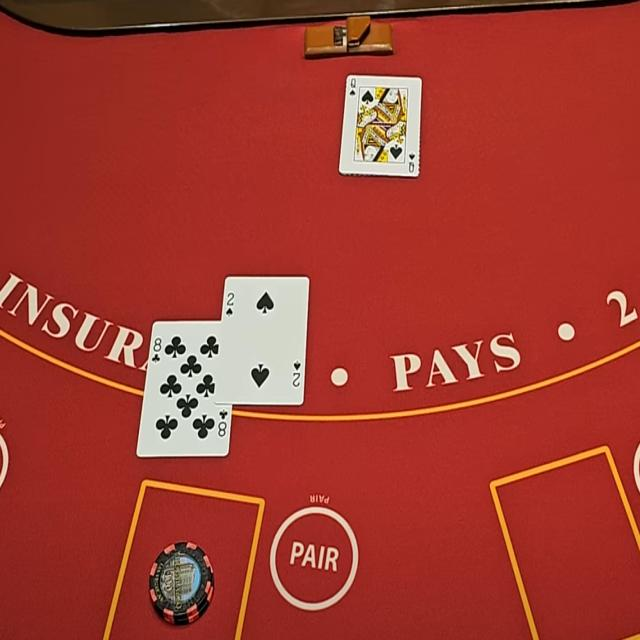2: (225, 290, 237, 308)
8: (152, 336, 163, 354)
Q: (349, 76, 357, 90)
